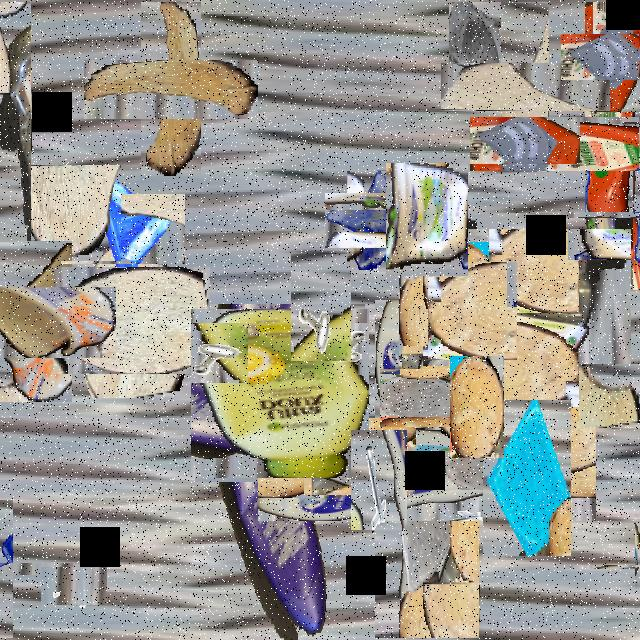glass: (483, 400, 571, 556), (74, 181, 172, 278), (391, 358, 472, 438), (449, 2, 509, 108), (336, 182, 414, 259), (577, 17, 640, 96), (597, 175, 640, 254), (0, 531, 44, 606)
metal: (291, 254, 351, 361), (351, 430, 407, 530), (48, 560, 100, 613)
plastic: (316, 359, 538, 580), (429, 221, 623, 415), (193, 306, 367, 480), (212, 386, 332, 638), (527, 59, 640, 228), (0, 264, 94, 380), (386, 164, 468, 278), (0, 2, 31, 258), (602, 532, 640, 601)
wood: (66, 254, 198, 386), (113, 31, 230, 148), (470, 32, 580, 142), (21, 166, 121, 262), (425, 264, 519, 358), (450, 356, 504, 458), (399, 260, 449, 366), (579, 364, 640, 428)
